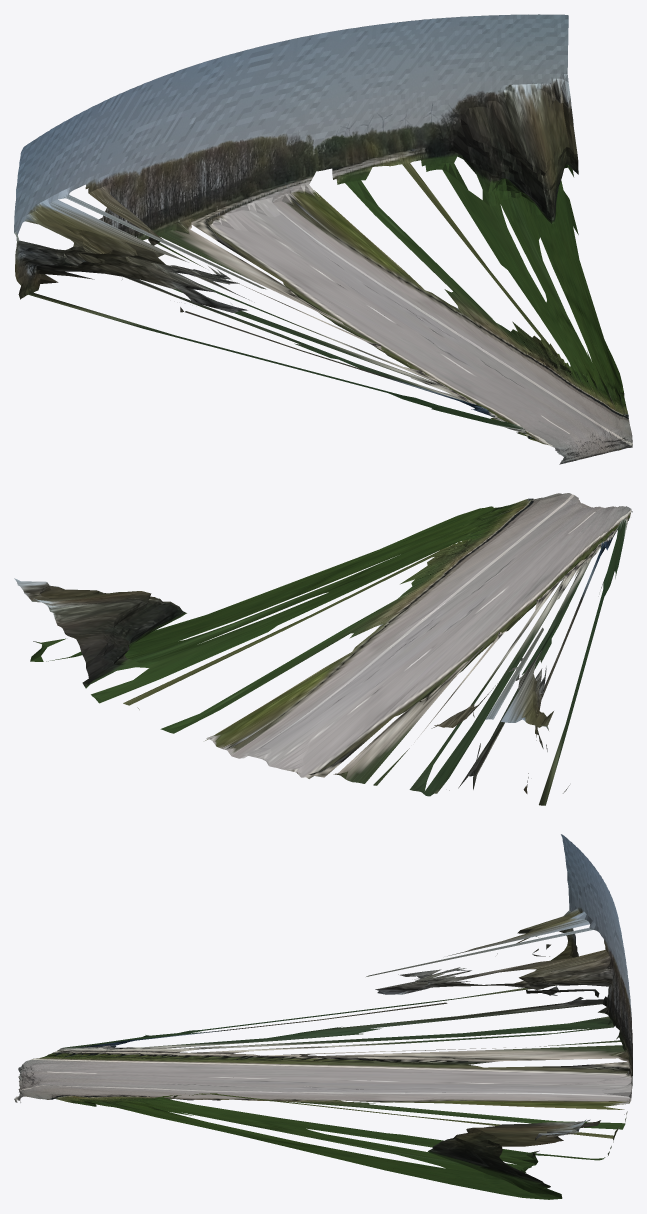
3 views of the same model, one above another, from view 1: azimuth 30°, elevation 25°; view 2: azimuth 150°, elevation 25°; view 3: azimuth 270°, elevation 25° (orthographic). The views are drawn at different scales.
Visible parts, largest first — view 1: defaultobject; view 2: defaultobject; view 3: defaultobject.
Part boxes in pixels (left/top/right/bottom): defaultobject: left=14, top=14, right=632, bottom=464; defaultobject: left=14, top=493, right=632, bottom=805; defaultobject: left=14, top=834, right=632, bottom=1199.
Size of the model in its own units: 41.03 by 12.08 by 44.4.
Materials: 1 (1 with a texture image).
